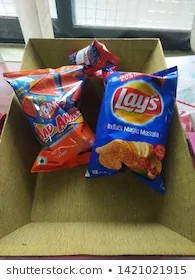lays-small: (80, 61, 177, 183)
